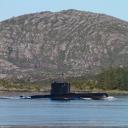submarine: (20, 73, 109, 100)
